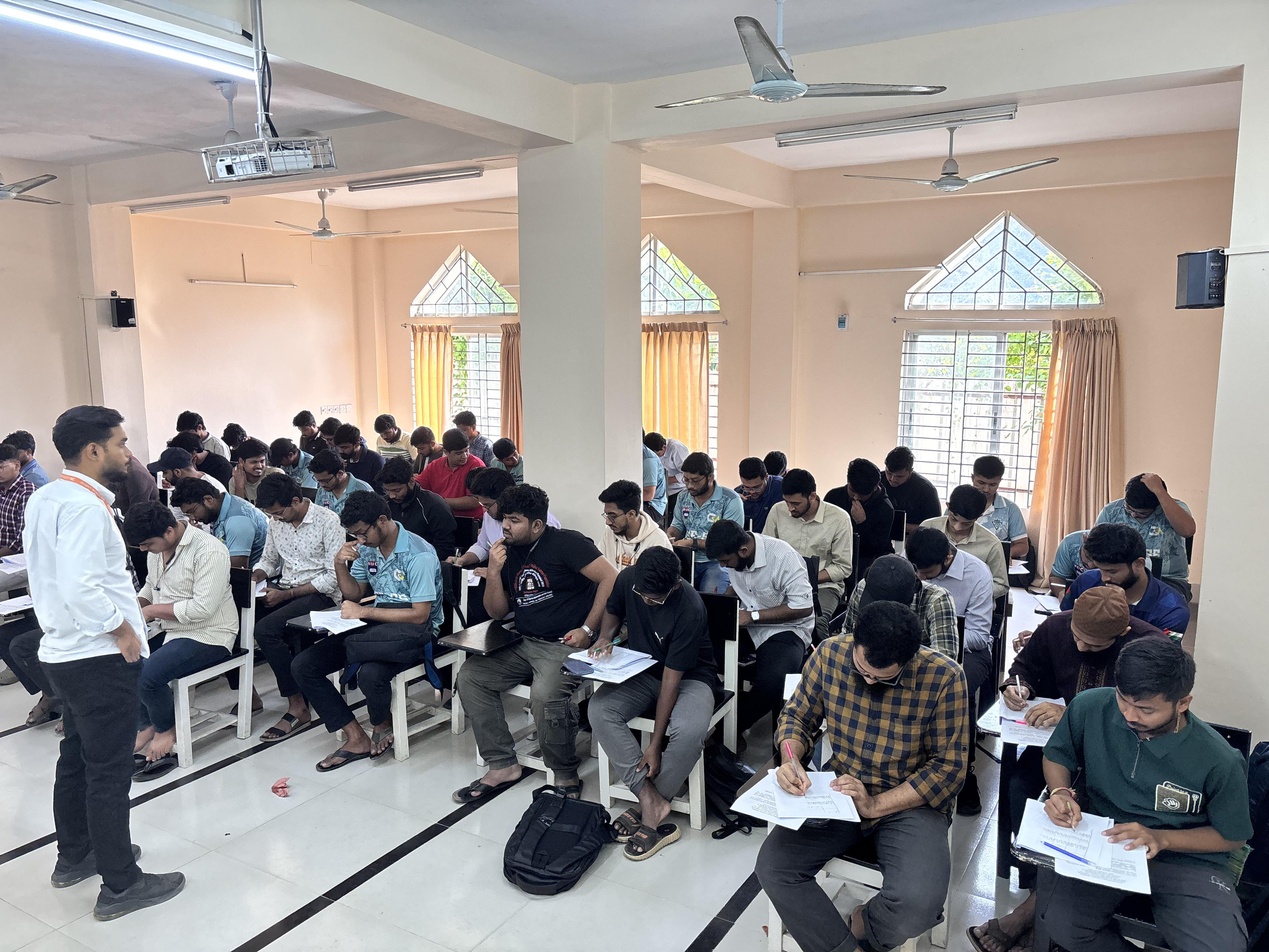copying: (432, 426, 475, 501), (489, 433, 531, 473)
invigilator: (37, 398, 193, 926)
no_cheating: (1027, 643, 1230, 904), (777, 601, 948, 864), (477, 488, 594, 727), (315, 493, 428, 700), (590, 541, 697, 719), (122, 496, 219, 657), (250, 474, 335, 647), (1026, 585, 1145, 671), (769, 469, 843, 578), (703, 517, 781, 610), (1074, 518, 1153, 602), (1109, 467, 1190, 538), (167, 474, 244, 538), (888, 525, 954, 593), (831, 453, 885, 536), (598, 477, 659, 546), (936, 486, 996, 554), (463, 466, 513, 544), (967, 450, 1019, 510), (728, 444, 775, 508), (376, 455, 420, 517), (675, 461, 721, 519), (309, 452, 358, 498), (880, 443, 917, 497), (148, 448, 196, 485), (269, 437, 307, 479), (333, 425, 371, 460), (371, 410, 399, 449), (408, 425, 432, 466), (292, 406, 318, 443)
side_talking: (236, 439, 277, 493)
